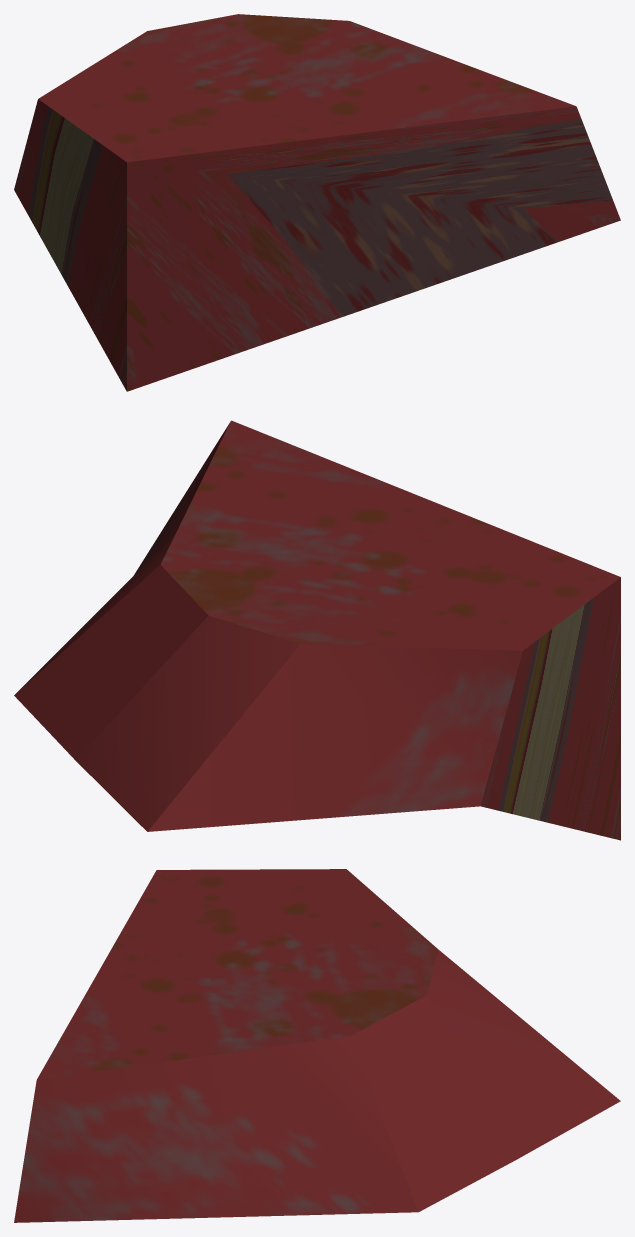
File: ishi_03_07_1.fbx
3 renders of one model, top to bottom at view 1: azimuth 30°, elevation 25°; view 2: azimuth 150°, elevation 25°; view 3: azimuth 270°, elevation 25°, orthographic. The views are drawn at different scales.
Parts seen in each view (by area): view 1: polySurface49; view 2: polySurface49; view 3: polySurface49.
Boxes of the visible parts, bbox=[...] form: polySurface49: bbox=[14, 14, 620, 391]; polySurface49: bbox=[14, 420, 620, 840]; polySurface49: bbox=[14, 869, 620, 1222].
Size of the model in its own units: 10.08 by 5.14 by 11.3.
Materials: 1 (1 with a texture image).
